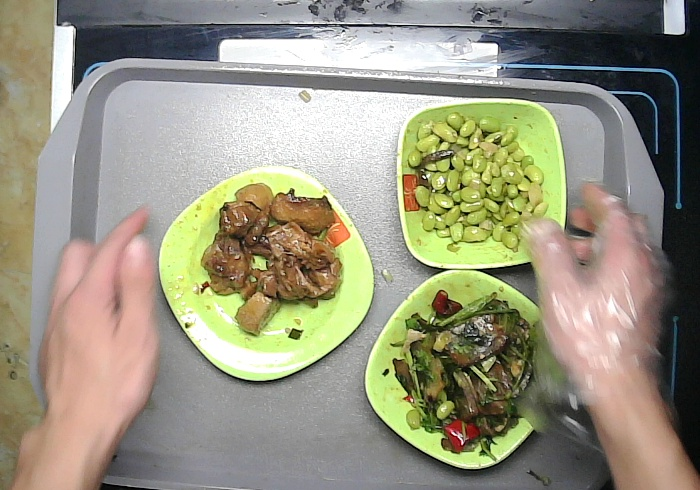SHKJ-Lv_Se_Cai_Die: (363, 268, 565, 470)
SHKJ-Lv_Se_Si_Fang_Cai_Die: (157, 165, 376, 385)
SHKJ-Lv_Se_Xiao_Fang_Die: (396, 97, 569, 271)
